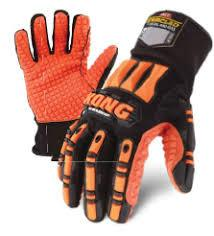gloves: (57, 8, 214, 223), (13, 9, 118, 160)
